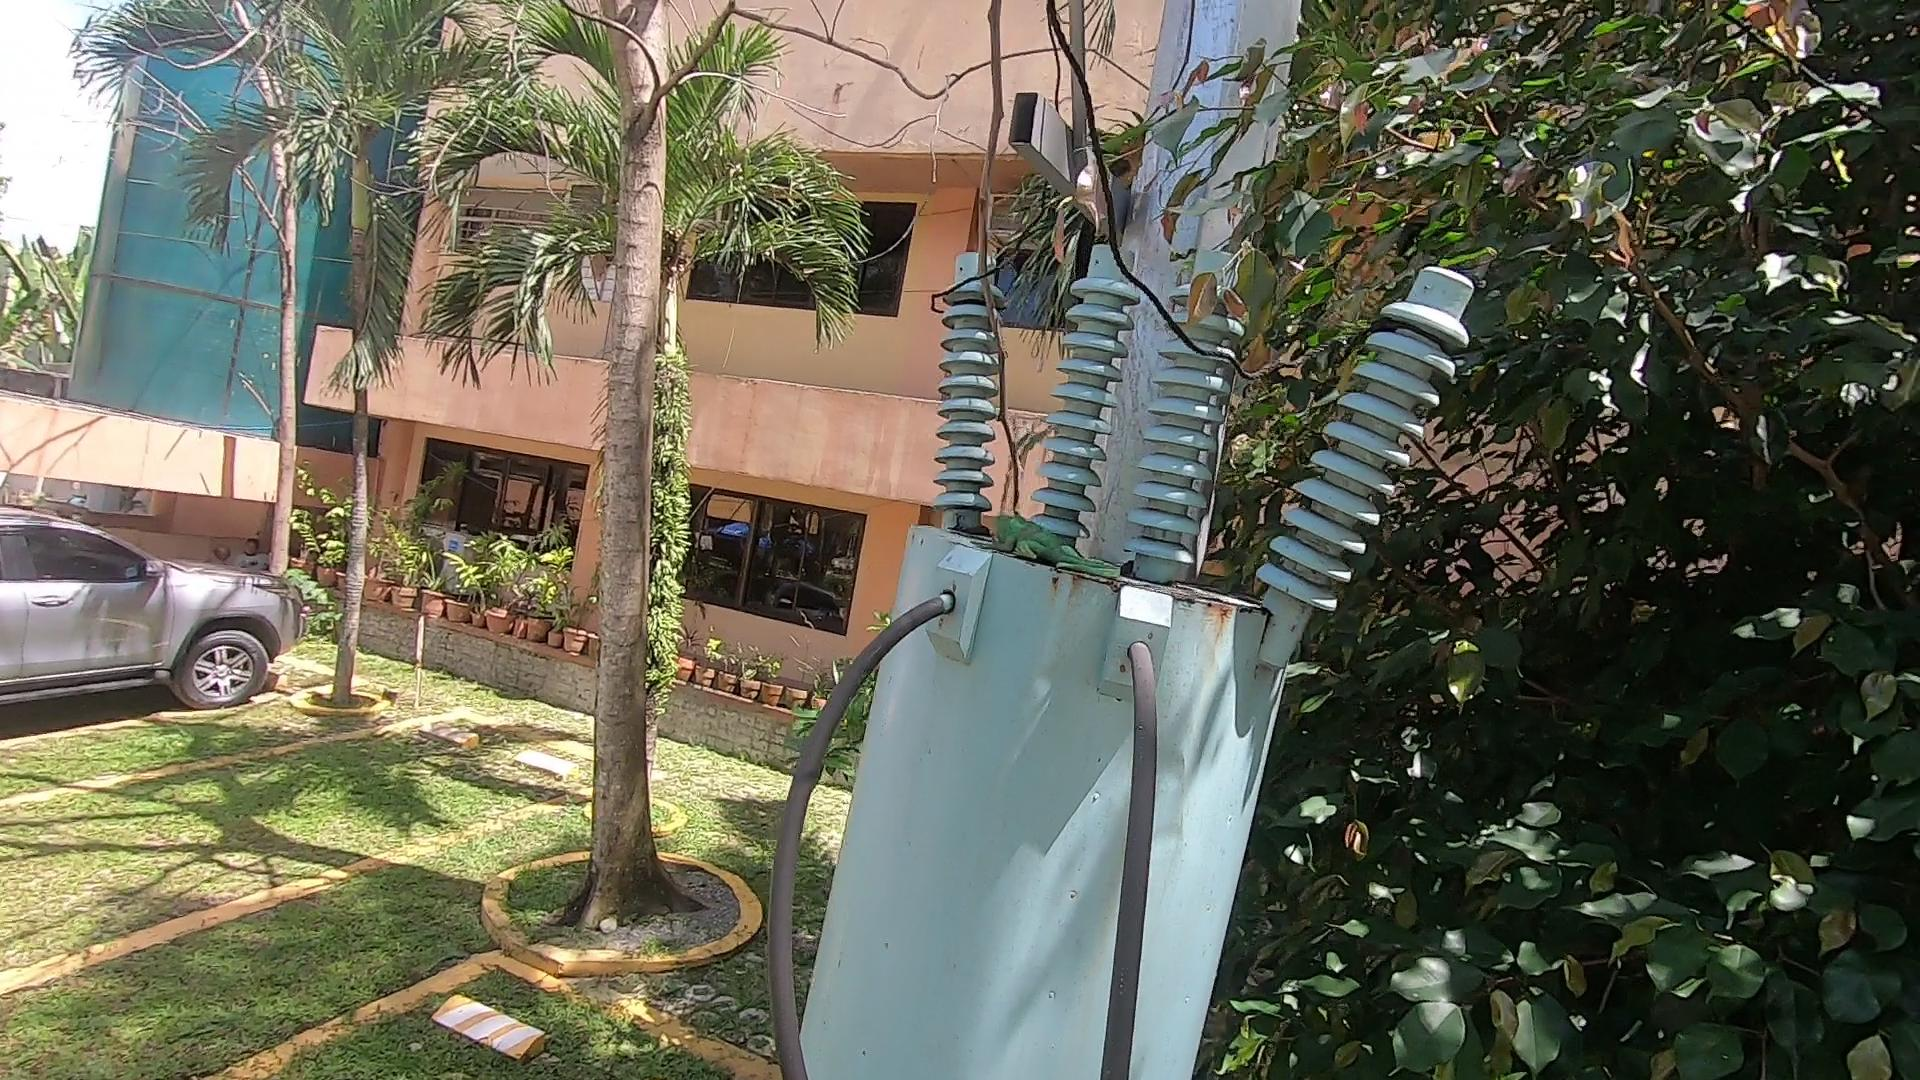branch with leaves: (1151, 194, 1319, 384)
leaf: (938, 518, 1004, 546), (1104, 553, 1149, 591)
tree branch: (947, 9, 1083, 514)
